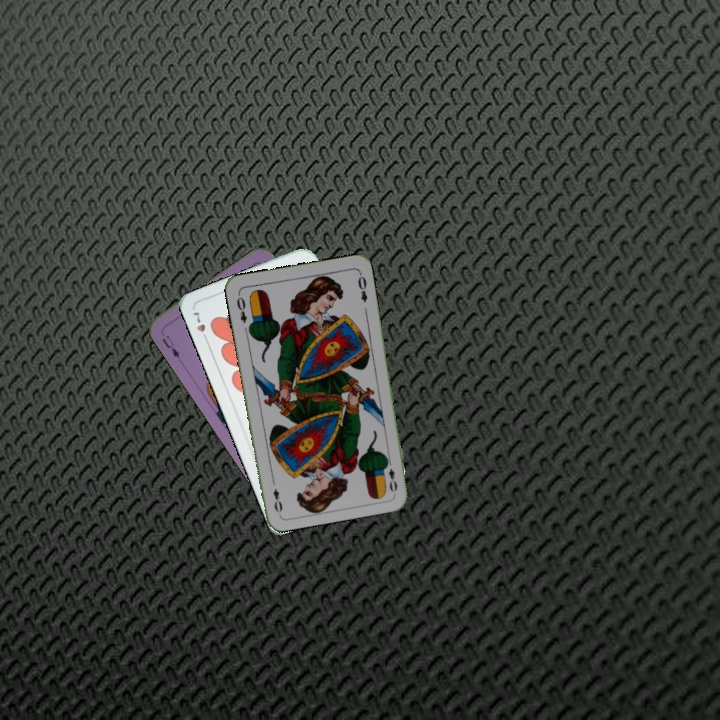EO: (382, 455, 400, 495), (232, 290, 249, 325)
EU: (158, 331, 182, 361)
H7: (189, 306, 211, 345)
